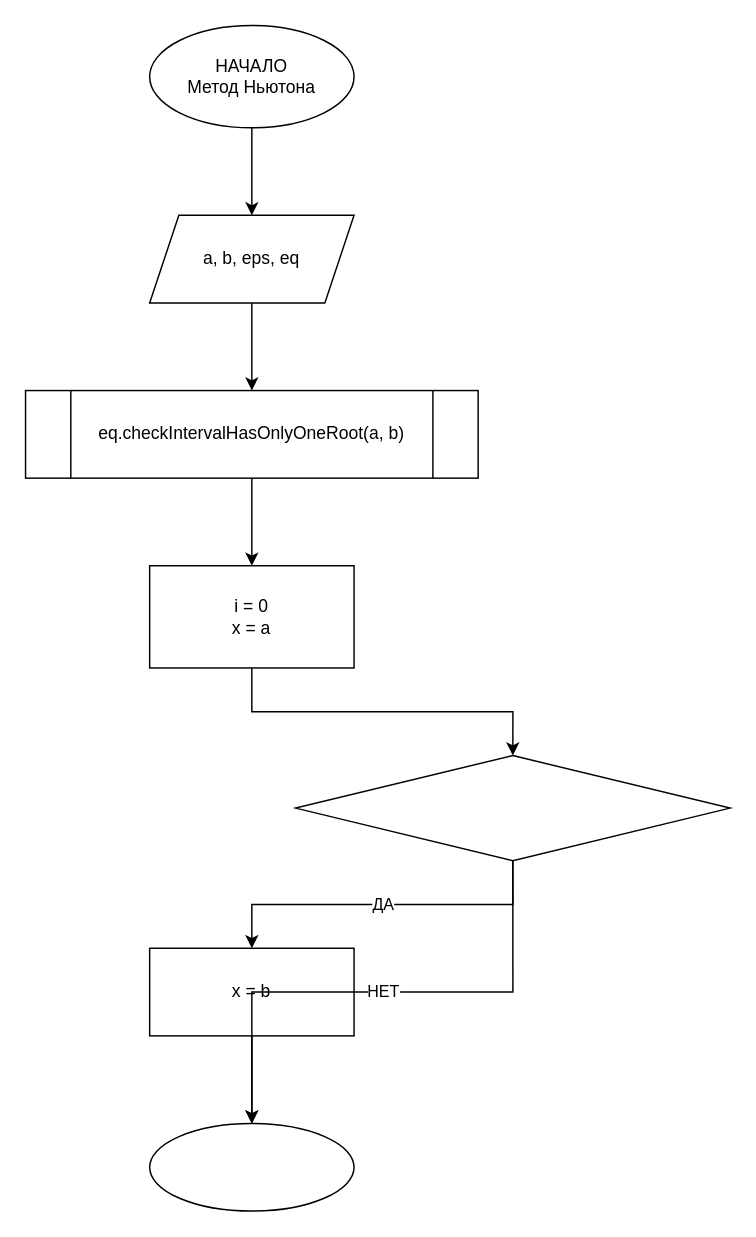
The diagram is 756 pixels wide and 1237 high, and some of its shapes have lost their labels. Each missing label, with the box of its shape:
eq.f(x) * eq.ddf(x) > 0: (294, 754, 730, 861)
КОНЕЦ: (148, 1122, 354, 1211)
